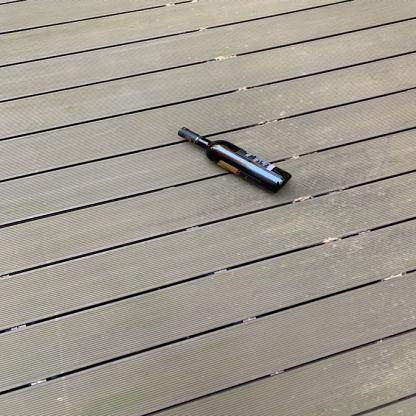trash: (176, 126, 296, 197)
